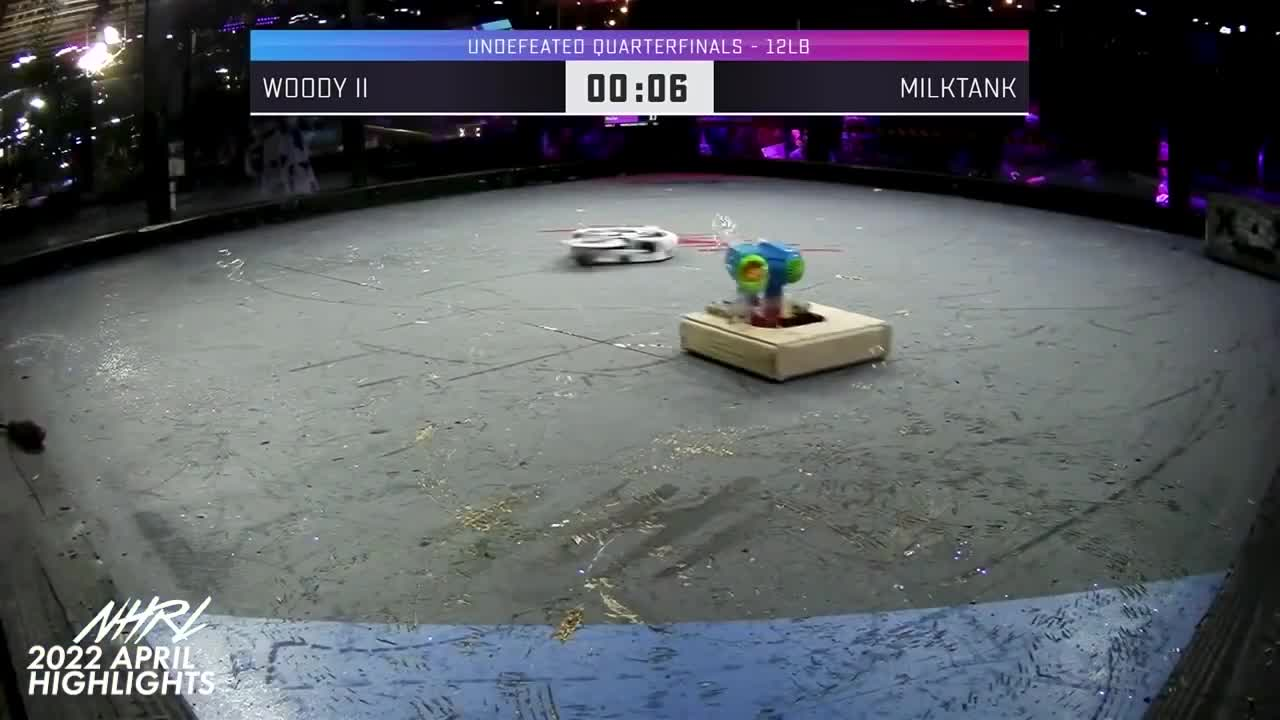combatbot: (680, 240, 893, 389), (562, 219, 686, 269)
housebot: (1201, 168, 1280, 294)
